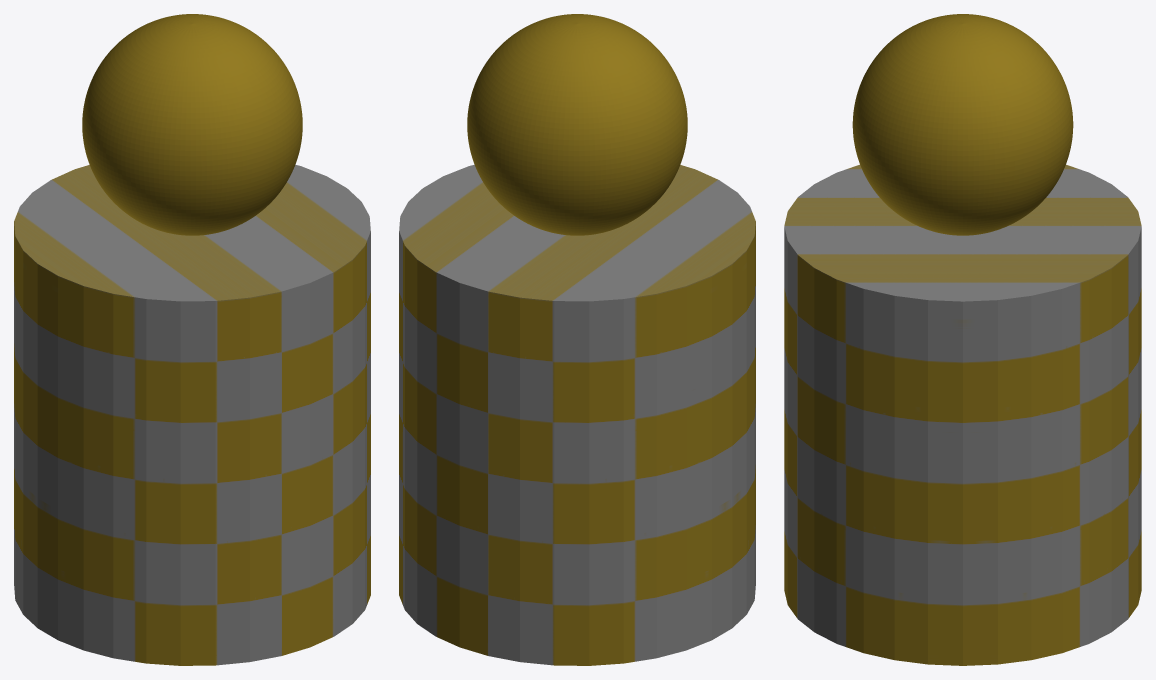
File: BOD5_BMC4_BCC0_BPT4_FRC0_HEA0_HMC4_HCC0_HPT0_ELT0_ERT0_ELL0_ERL0_AP0_AAL0_AAR0_BEK0.fbx
The picture shows the model from 3 angles, left to right: view 1: azimuth 30°, elevation 25°; view 2: azimuth 150°, elevation 25°; view 3: azimuth 270°, elevation 25°; orthographic projection.
Visible parts, largest first — view 1: Body, Head; view 2: Body, Head; view 3: Body, Head.
Part boxes in pixels (x1,y1,x2,y2): Body: (14, 164, 370, 665); Head: (82, 14, 302, 235); Body: (399, 164, 755, 665); Head: (467, 14, 687, 235); Body: (784, 164, 1141, 665); Head: (852, 14, 1073, 235).
Bounding box in the file's own units: 80 × 140 × 80.
Materials: 2 (2 with a texture image).
